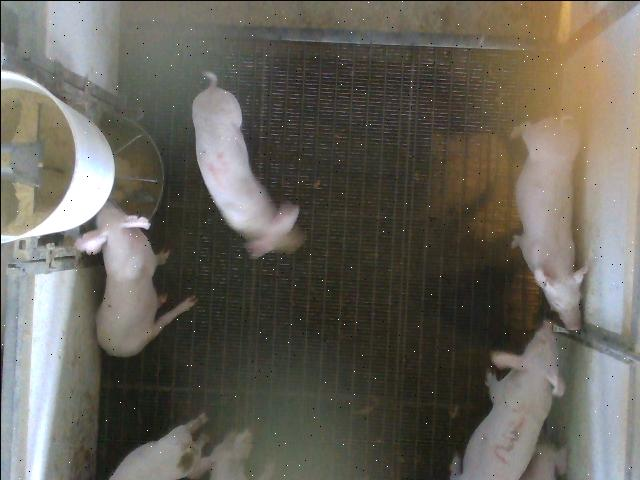pig-3: (451, 321, 564, 480)
pig-4: (191, 72, 304, 258)
